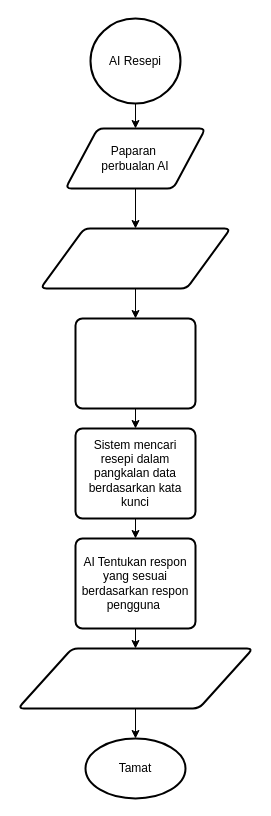
The diagram is 271 pixels wide and 816 high, and some of its shapes have lost their labels. Here are the shapes that lost their labels. From the top down, the box of each, then its label:
(39, 227, 231, 289): Pengguna masukan pertanyaan atau kehendak pemakanan
(74, 317, 196, 409): AI Kenalpasti kata kunci releven berdasaarkan penyataan
(16, 647, 254, 709): Sistem paparkan respon AI dan resepi berdasarkan kata kunci
